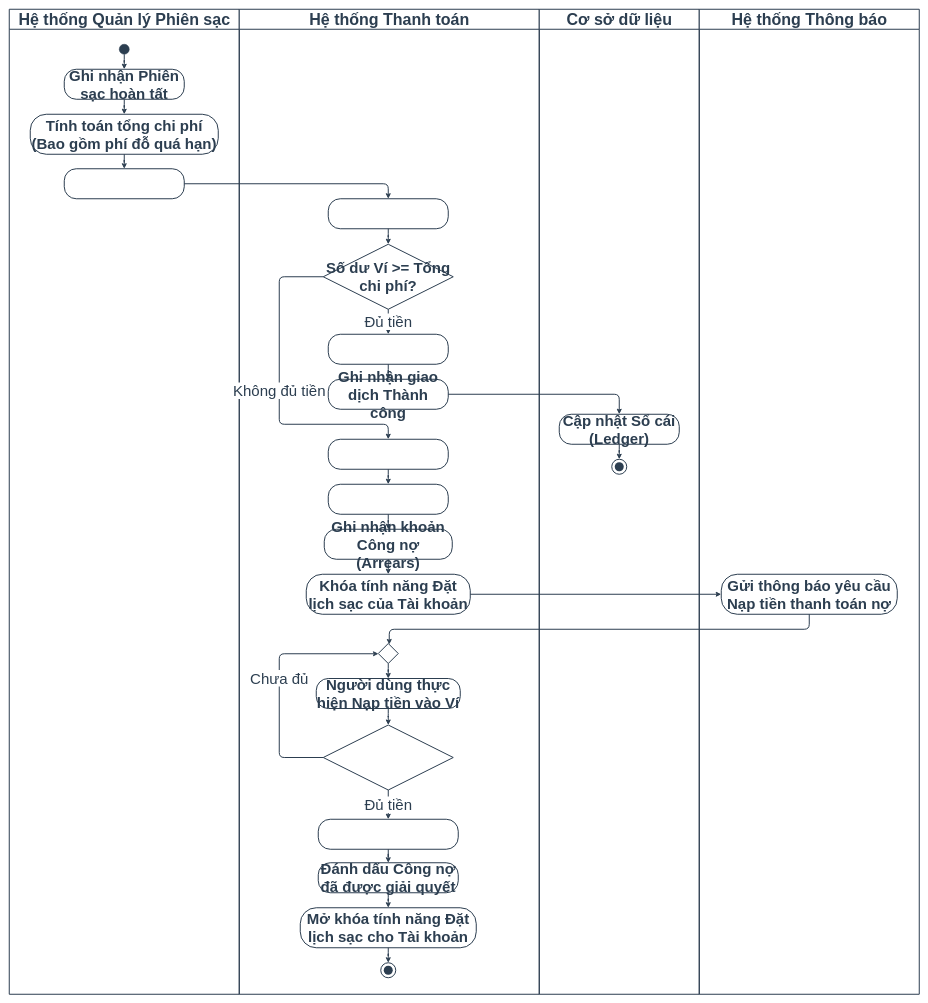
The diagram is 928 pixels wide and 1003 high, and some of its shapes have lost their labels. The centre of each missing label's shape, as x and y in pixels:
"Chuyển yêu cầu thanh toán" belongs at [124,183].
"Kiểm tra số dư Ví điện tử" belongs at [388,213].
"Số dư Ví mới >= Số tiền nợ?" belongs at [388,757].
"Trừ hết số dư còn lại trong Ví" belongs at [388,454].
"Trừ tiền từ Ví điện tử" belongs at [388,349].
"Tính toán số tiền còn thiếu" belongs at [388,499].
"Tự động trừ tiền thanh toán Công nợ" belongs at [388,834].
